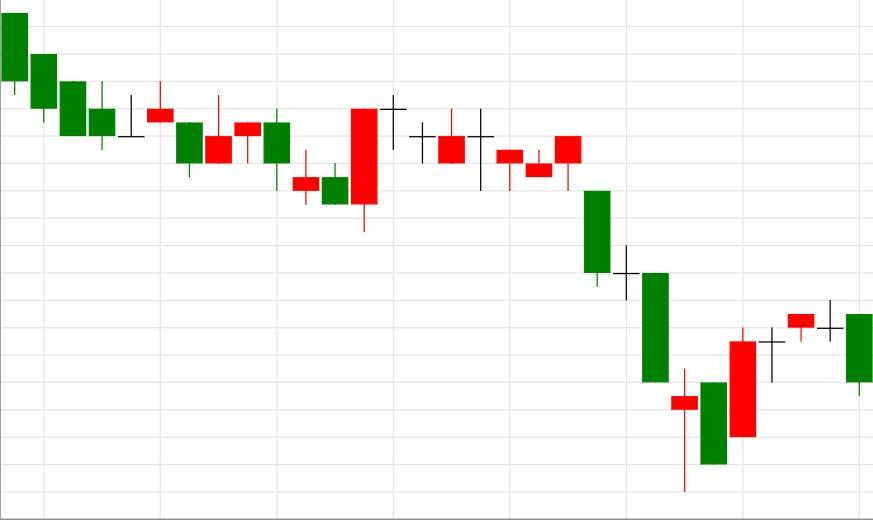bearish_engulfing_fall: (176, 95, 291, 190)
bullish_engulfing_rise: (234, 108, 378, 231)
